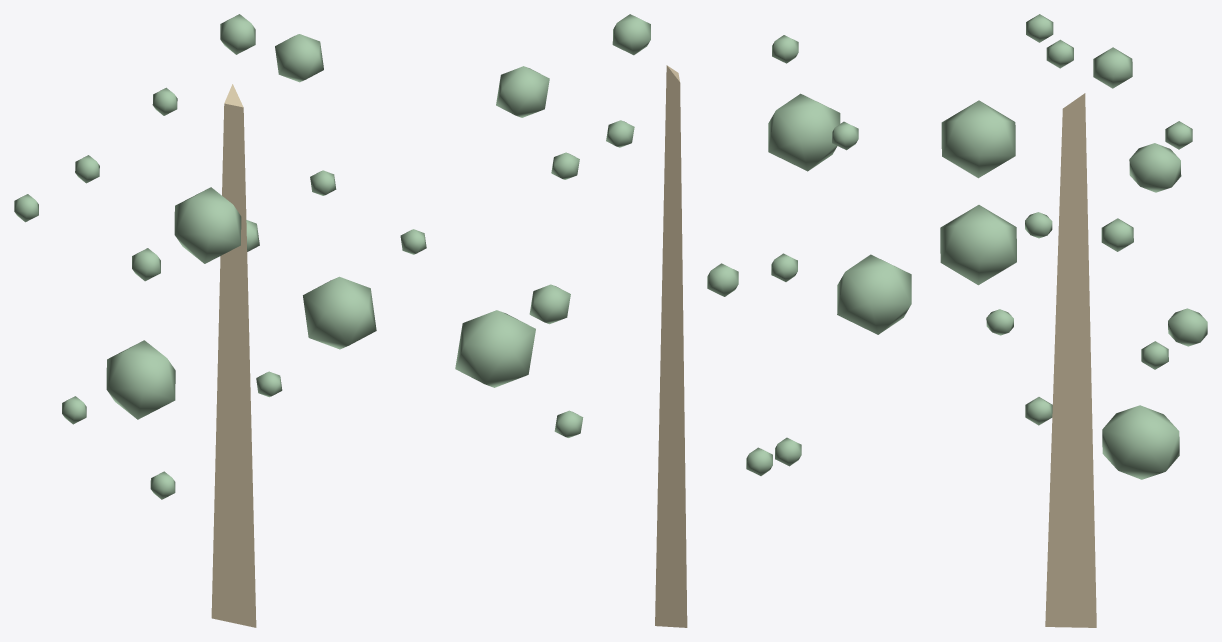
The picture shows the model from 3 angles, left to right: view 1: azimuth 30°, elevation 25°; view 2: azimuth 150°, elevation 25°; view 3: azimuth 270°, elevation 25°; orthographic projection. The views are drawn at different scales.
Visible parts, largest first — view 1: Box075, Sphere421, Sphere417, Sphere409, Sphere413, Sphere412, Sphere408; view 2: Box075, Sphere421, Sphere417, Sphere409, Sphere413, Sphere416, Sphere412, Sphere408; view 3: Box075, Sphere417, Sphere421, Sphere409, Sphere413, Sphere412, Sphere416, Sphere408, Sphere410, Sphere418, Sphere419, Sphere407 (+3 smaller).
Part boxes in pixels (x1,y1,x2,y2): Box075: (211, 84, 256, 627); Sphere421: (303, 276, 376, 349); Sphere417: (106, 340, 175, 419); Sphere409: (174, 187, 241, 263); Sphere413: (275, 34, 323, 82); Sphere412: (220, 14, 255, 54); Sphere408: (132, 248, 160, 281); Box075: (655, 65, 687, 627); Sphere421: (455, 310, 535, 387); Sphere417: (837, 254, 911, 334); Sphere409: (768, 93, 840, 171); Sphere413: (496, 66, 549, 117); Sphere416: (529, 284, 570, 324); Sphere412: (612, 14, 650, 55); Sphere408: (707, 263, 738, 296); Box075: (1045, 93, 1096, 627); Sphere417: (940, 205, 1016, 285); Sphere421: (1102, 405, 1179, 479); Sphere409: (941, 100, 1015, 178); Sphere413: (1129, 143, 1181, 192); Sphere412: (1093, 47, 1132, 88); Sphere416: (1168, 308, 1207, 346); Sphere408: (1101, 218, 1133, 251); Sphere410: (1046, 39, 1073, 68); Sphere418: (1025, 397, 1052, 425); Sphere419: (1141, 341, 1168, 369); Sphere407: (1165, 121, 1192, 149).
Size of the model in its own units: 5.92 by 9.52 by 3.96.
